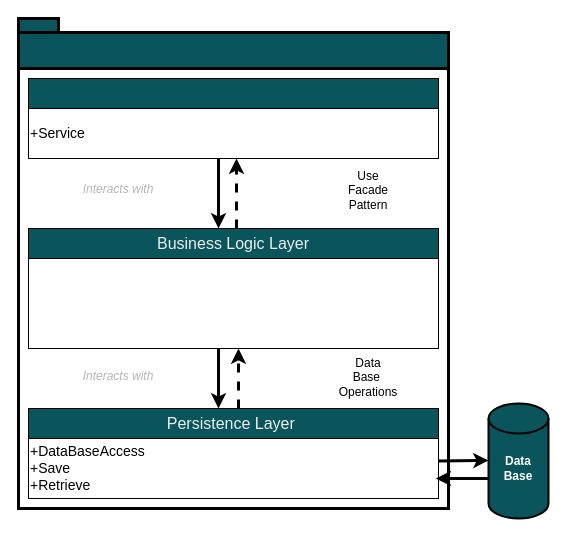
This 567x537 diagram has some shape labels left out. Here are the shapes that lost their labels. From the top down, the box of each, then its label:
(16, 16, 450, 70): HBnB Evolution
(28, 78, 438, 108): " Interface " - Presentation Layer
(28, 258, 438, 348): +User +Place +Review +Amenity
